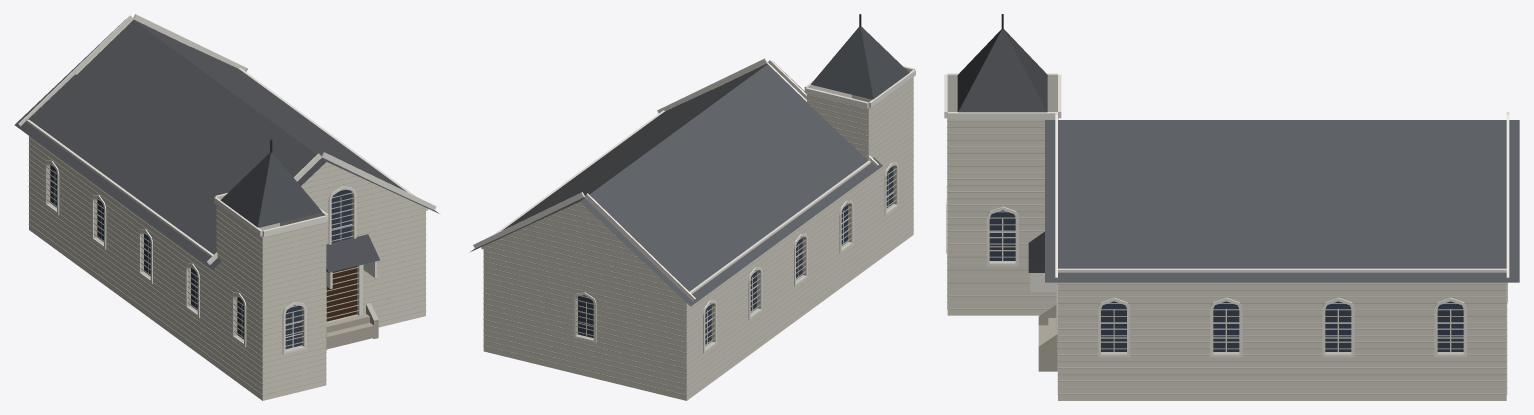
File: ch-lees-chapel-1913.glb
3 views of the same model, side by side, from view 1: azimuth 30°, elevation 25°; view 2: azimuth 150°, elevation 25°; view 3: azimuth 270°, elevation 25° (orthographic). The views are drawn at different scales.
Parts seen in each view (by area): view 1: ch_brick, ch_roof, ch_brick2, ch_trim, ch_roof2, ch_stain, ch_conc, ch_door; view 2: ch_brick, ch_roof, ch_brick2, ch_trim, ch_roof2, ch_stain; view 3: ch_roof, ch_brick, ch_brick2, ch_trim, ch_roof2, ch_stain, ch_conc.
Part boxes in pixels (x1,y1,x2,y2): ch_brick: [29, 136, 425, 400]; ch_roof: [14, 19, 439, 269]; ch_brick2: [28, 34, 426, 395]; ch_trim: [18, 14, 436, 354]; ch_roof2: [220, 152, 379, 272]; ch_stain: [50, 163, 351, 348]; ch_conc: [326, 303, 378, 350]; ch_door: [326, 266, 356, 321]; ch_brick: [483, 68, 913, 400]; ch_roof: [470, 61, 882, 306]; ch_brick2: [483, 77, 913, 395]; ch_trim: [473, 58, 915, 353]; ch_roof2: [811, 26, 909, 99]; ch_stain: [578, 166, 893, 345]; ch_roof: [1045, 120, 1519, 282]; ch_brick: [947, 75, 1506, 400]; ch_brick2: [947, 114, 1507, 394]; ch_trim: [944, 73, 1509, 357]; ch_roof2: [957, 29, 1047, 272]; ch_stain: [989, 210, 1463, 351]; ch_conc: [1038, 305, 1057, 371].
Size of the model in its own units: 9.73 by 9.7 by 17.7.
